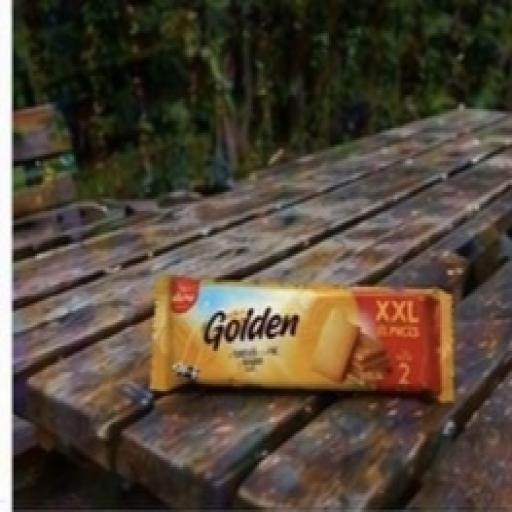golden: (103, 210, 477, 464)
